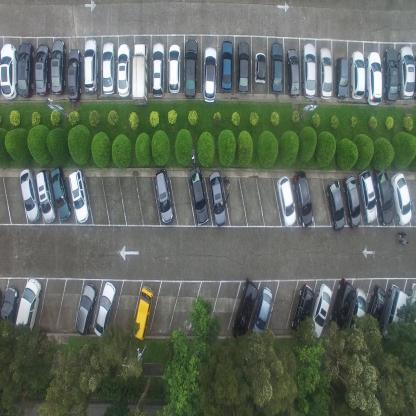car: (15, 277, 42, 337), (232, 278, 257, 341), (381, 284, 409, 340), (329, 279, 355, 335), (291, 285, 315, 341), (309, 284, 333, 340), (93, 280, 116, 336), (68, 169, 91, 224), (19, 166, 41, 223), (50, 166, 72, 222), (36, 168, 58, 224), (132, 284, 154, 340), (188, 166, 208, 227), (373, 166, 393, 226), (293, 171, 313, 230), (391, 170, 412, 226), (250, 286, 272, 339), (130, 43, 148, 107), (343, 288, 367, 336), (364, 284, 386, 336), (358, 168, 378, 225), (154, 168, 174, 224), (76, 282, 97, 335), (342, 173, 361, 230), (0, 284, 20, 338), (0, 42, 18, 101), (276, 175, 296, 228), (208, 170, 226, 228), (17, 40, 34, 99), (326, 179, 345, 231), (51, 37, 67, 96), (202, 45, 218, 103), (35, 42, 51, 98), (366, 50, 382, 106), (399, 44, 415, 100), (67, 49, 83, 104), (184, 37, 198, 99), (84, 38, 99, 93), (302, 41, 316, 99), (117, 43, 131, 99), (384, 46, 398, 102), (151, 43, 165, 98), (102, 43, 116, 97), (167, 42, 181, 96), (270, 42, 284, 94), (286, 46, 300, 98), (318, 47, 332, 99), (220, 39, 233, 94), (351, 49, 365, 100), (237, 40, 249, 94), (334, 56, 348, 99), (406, 283, 416, 336), (254, 51, 266, 85)
